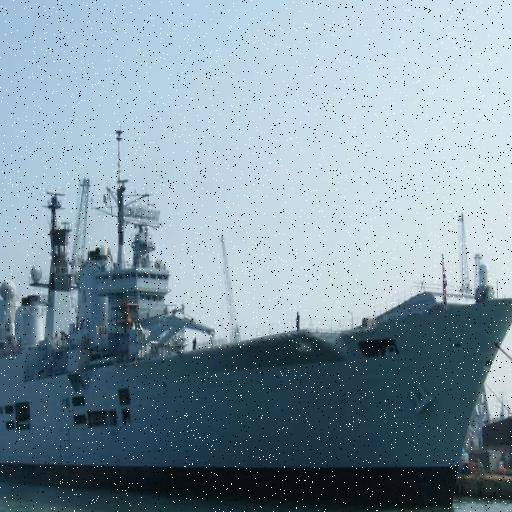Portanaves: (1, 106, 512, 512)
